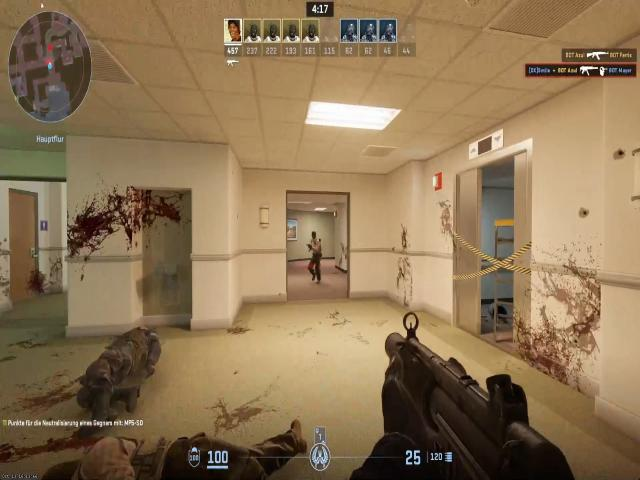Dead: (75, 320, 172, 416)
T: (307, 230, 323, 266)
T-Head: (308, 228, 320, 242)
